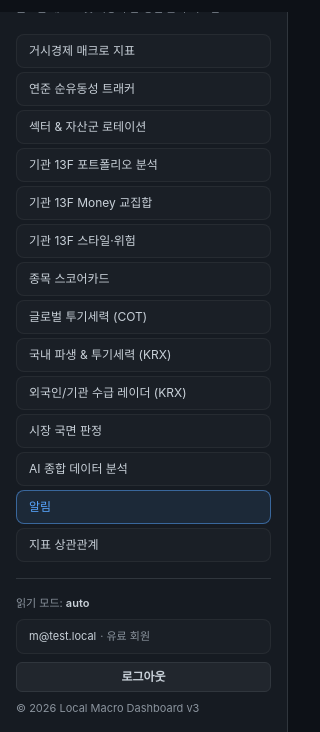
Test case: QA-051 › 로그아웃이 실패하면 화면에 알린다
The image size is (320, 732).
(page scrolled)
Step 1. Click the button "로그아웃" → (144, 677), box [16,662,271,692]
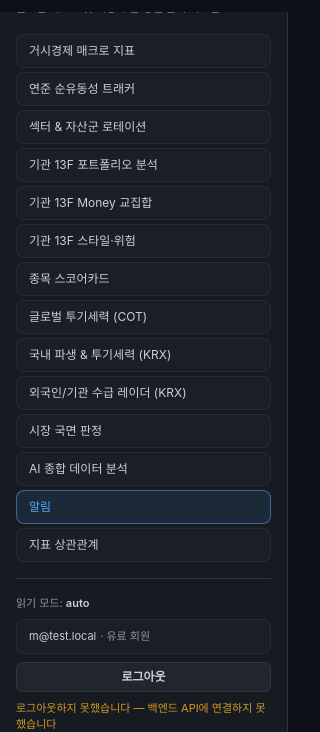
Check: the text "로그아웃하지 못했습니다 — 백엔드 API에 연결하지 못했습니다" is shown, box [16,700,271,731]
